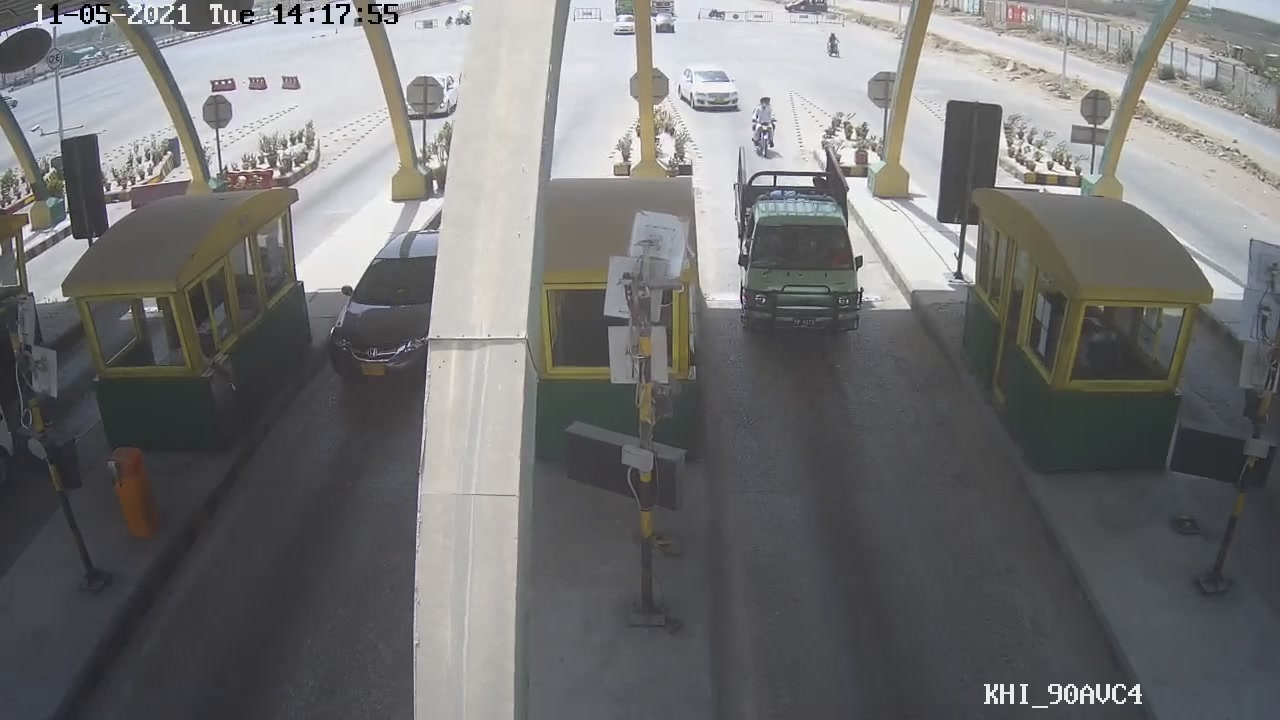F1: (725, 137, 870, 345)
